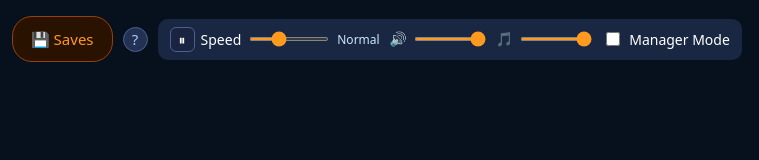
Test: GameControls › pause button shows Resume label when game is paused
The image size is (759, 160).
Click once to pause
Step 1. Click the button with test id "pause-play-button" → (182, 39), box [170,26,194,52]
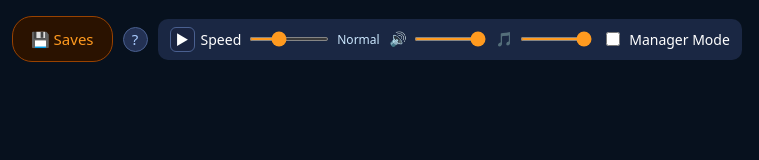
Result: the button with test id "pause-play-button" reads "▶" at [170,26,194,52]
